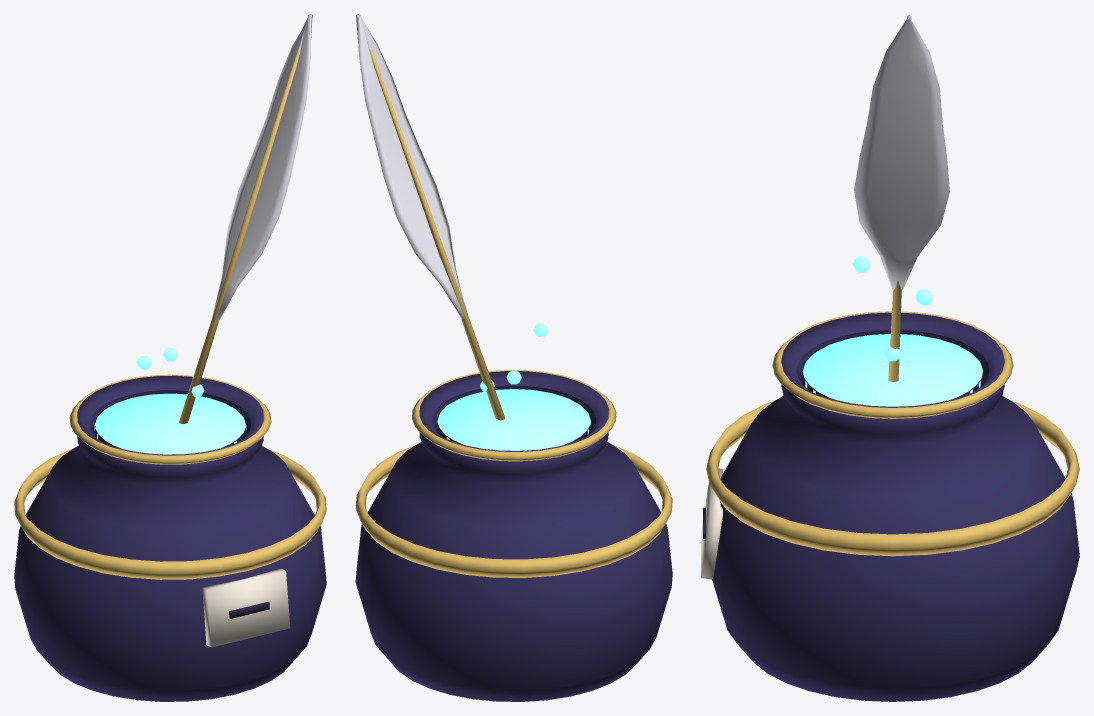
The model's file is inkwell.glb.
3 views of the same model, side by side, from view 1: azimuth 30°, elevation 25°; view 2: azimuth 150°, elevation 25°; view 3: azimuth 270°, elevation 25° (orthographic). The views are drawn at different scales.
Parts seen in each view (by area): view 1: inkwell:mesh, inkwell:glow.mesh; view 2: inkwell:mesh, inkwell:glow.mesh; view 3: inkwell:mesh, inkwell:glow.mesh.
Boxes of the visible parts, x1,y1,x2,y2 form: inkwell:mesh: (14,14,326,701); inkwell:glow.mesh: (94,348,246,454); inkwell:mesh: (355,14,672,701); inkwell:glow.mesh: (437,323,590,450); inkwell:mesh: (701,14,1079,701); inkwell:glow.mesh: (802,256,983,406).
Size of the model in its own units: 1.3 by 2.59 by 1.26.
